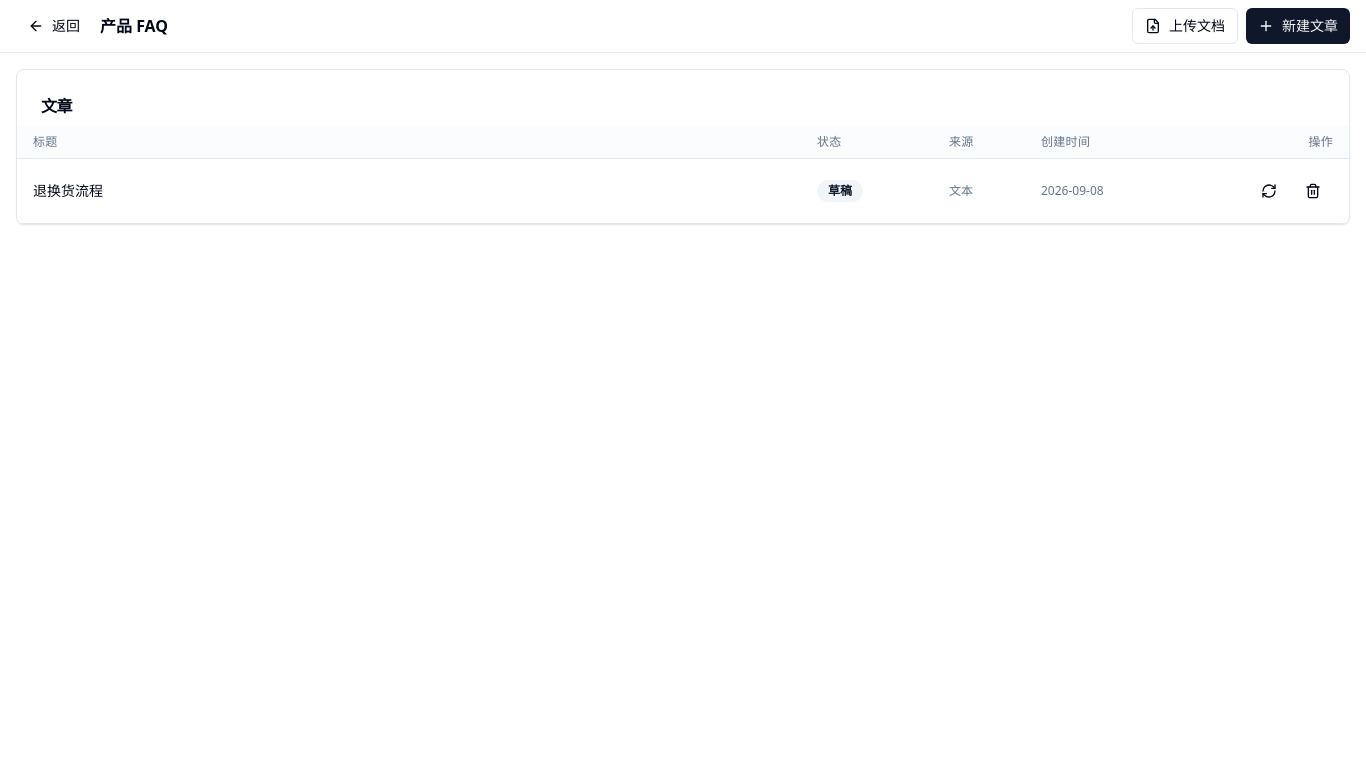
Test case: KbDetailPage › removes a row after delete confirmation
Expected: the button "退换货流程" is shown, left=33, top=181, right=805, bottom=201
Step 1. Click the button with test id "article-row-delete" → {"x": 1313, "y": 191}, box left=1293, top=171, right=1333, bottom=211
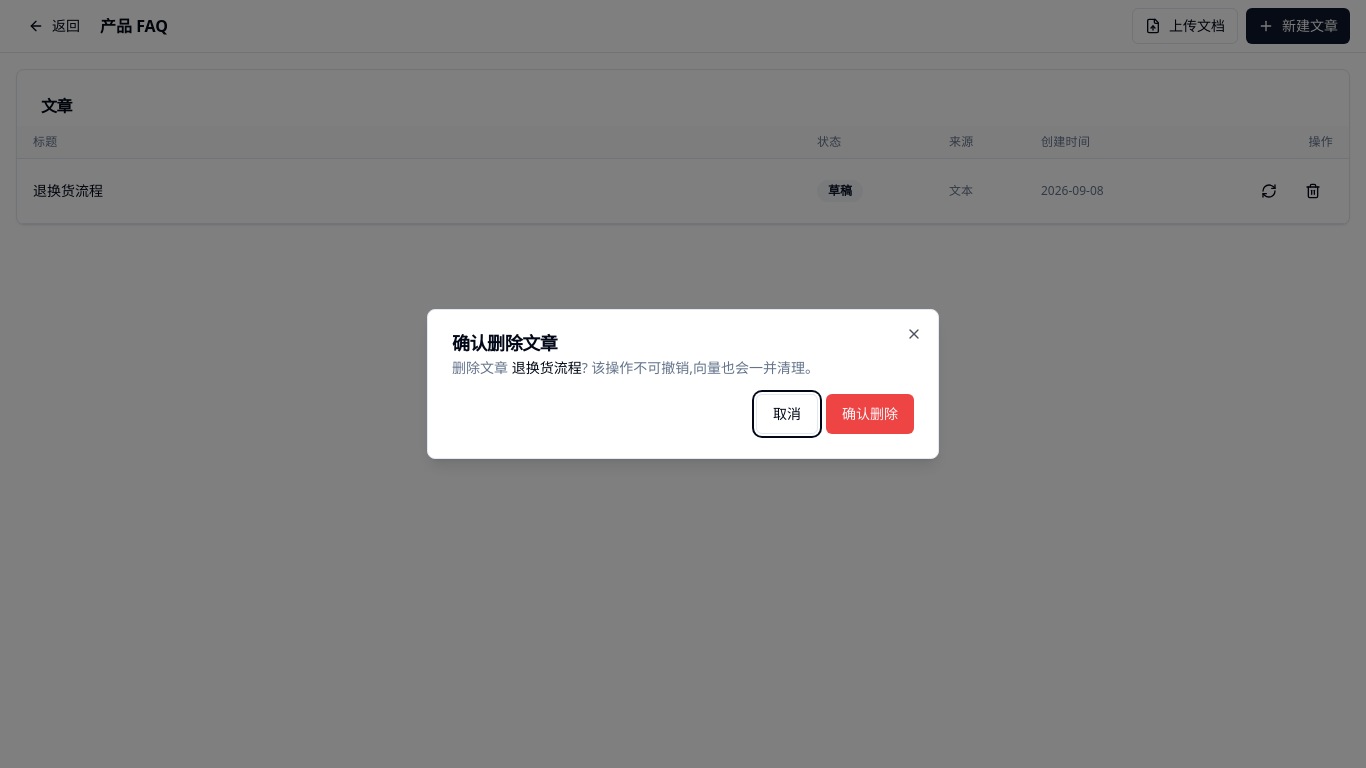
Step 2. Click the button with test id "article-delete-confirm" → {"x": 870, "y": 414}, box left=826, top=394, right=914, bottom=434
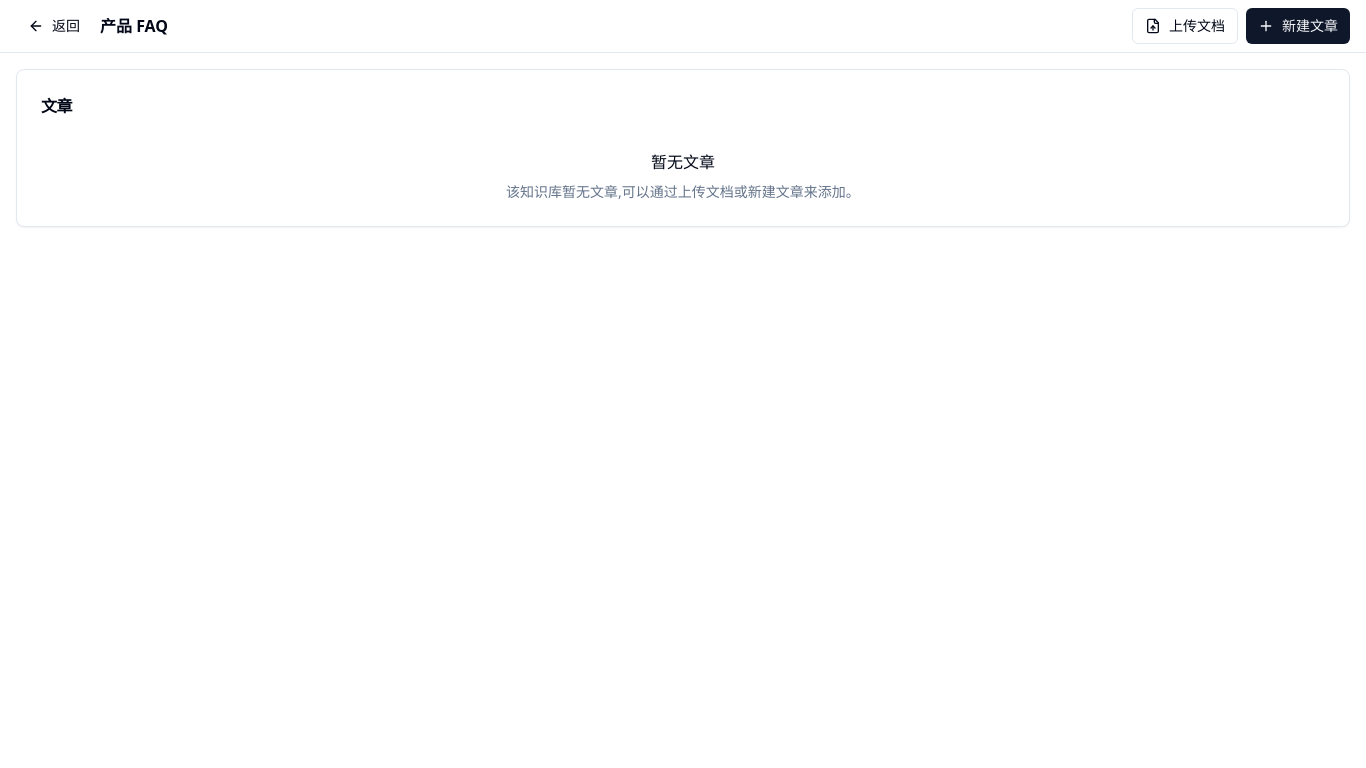
Expected: the button "退换货流程" is gone
